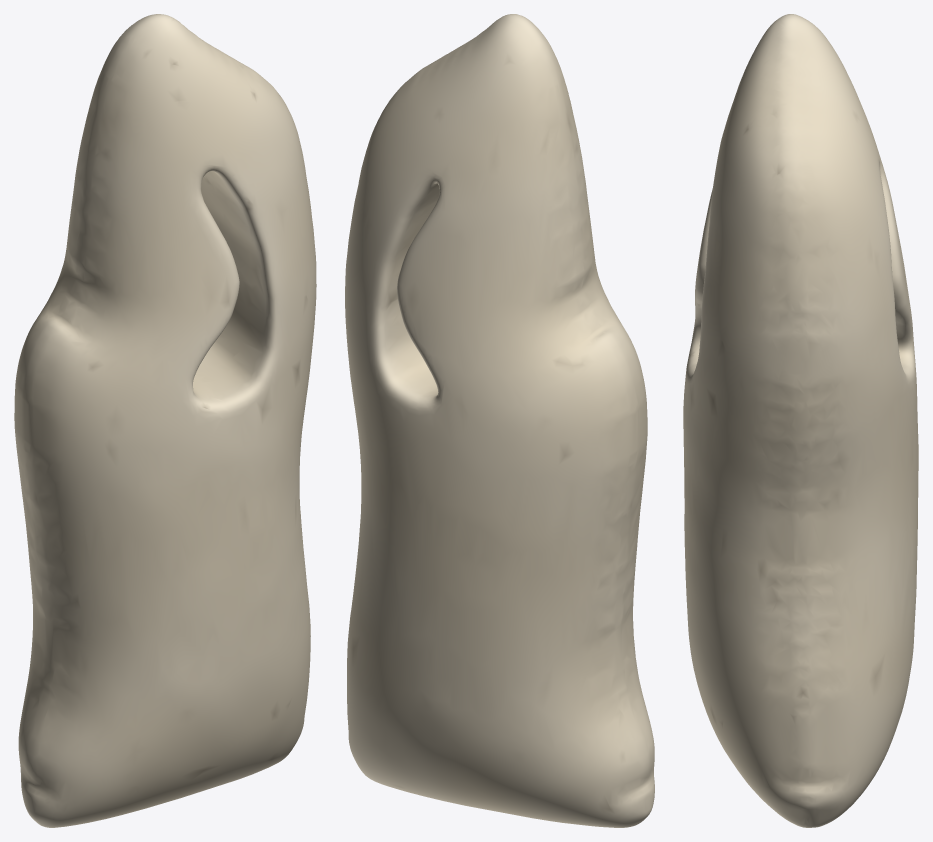
File: king-white-hd.glb
3 renders of one model, left to right at view 1: azimuth 30°, elevation 25°; view 2: azimuth 150°, elevation 25°; view 3: azimuth 270°, elevation 25°, orthographic. The views are drawn at different scales.
Visible parts, largest first — view 1: Lumen kral bila; view 2: Lumen kral bila; view 3: Lumen kral bila.
Boxes of the visible parts, <box> form: Lumen kral bila: <box>14,14,316,827</box>; Lumen kral bila: <box>345,14,654,827</box>; Lumen kral bila: <box>683,14,918,827</box>.
Size of the model in its own units: 0.6234 by 1.65 by 0.4679.
